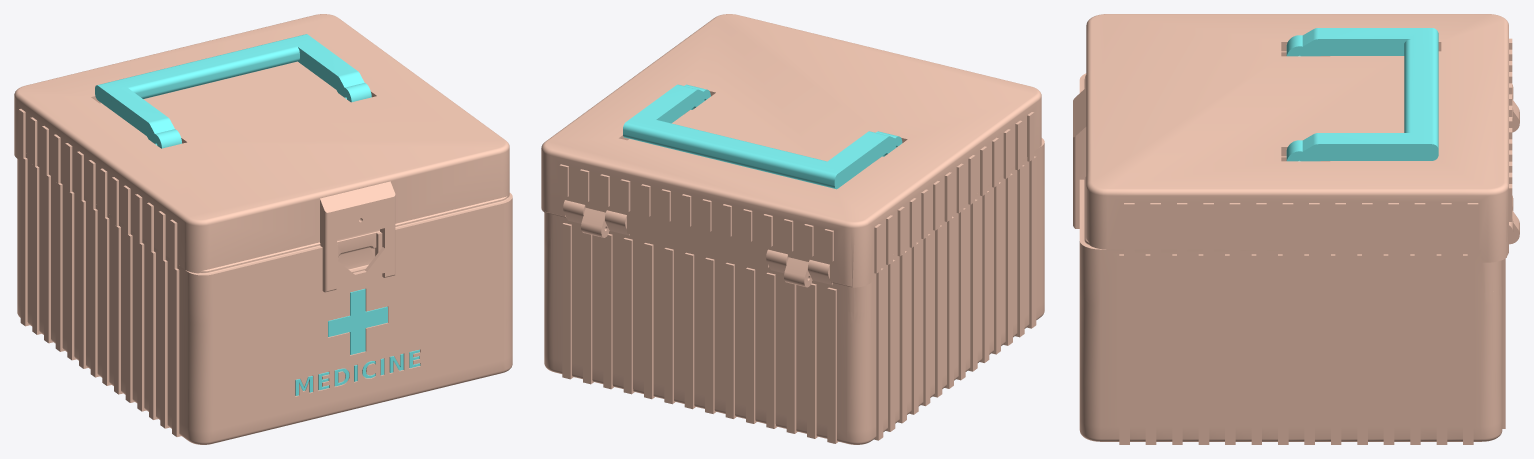
File: medbox.glb
The picture shows the model from 3 angles, left to right: view 1: azimuth 30°, elevation 25°; view 2: azimuth 150°, elevation 25°; view 3: azimuth 270°, elevation 25°; orthographic projection. The views are drawn at different scales.
Parts seen in each view (by area): view 1: geometry_0, geometry_1, handle_bail, geometry_2; view 2: geometry_0, geometry_1, handle_bail; view 3: geometry_1, geometry_0, handle_bail.
Part boxes in pixels (x1,y1,x2,y2): geometry_0: (17, 153, 512, 444); geometry_1: (14, 14, 509, 292); handle_bail: (95, 34, 371, 148); geometry_2: (295, 289, 420, 395); geometry_0: (544, 138, 1044, 444); geometry_1: (541, 14, 1041, 287); handle_bail: (623, 84, 902, 189); geometry_1: (1073, 14, 1519, 262); geometry_0: (1079, 73, 1513, 444); handle_bail: (1286, 28, 1438, 161).
Bounding box in the file's own units: 162 × 112 × 169.
